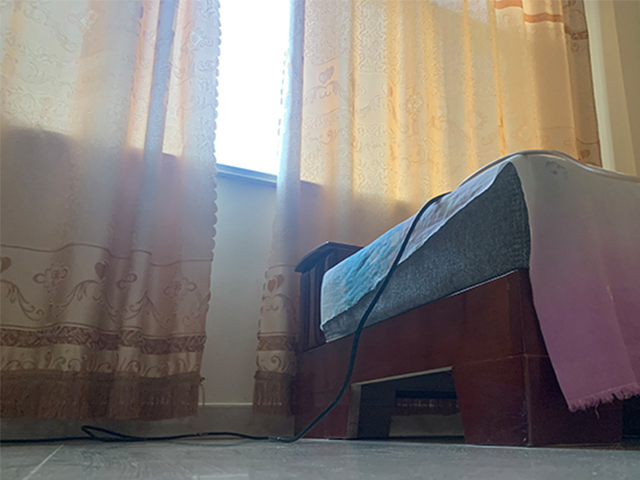curtain: (251, 1, 639, 414), (1, 1, 221, 419)
sofa: (291, 149, 640, 449)
wire: (2, 189, 449, 444)
